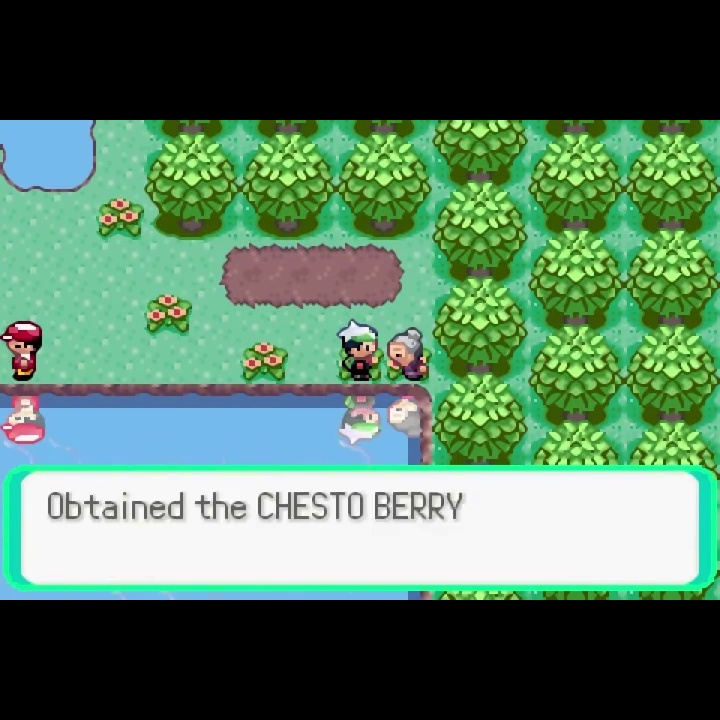npc: (334, 317, 379, 383), (1, 317, 45, 384), (384, 325, 431, 383)
wall: (336, 131, 433, 244), (143, 133, 242, 242), (243, 131, 337, 243), (527, 228, 625, 325), (434, 180, 527, 282), (432, 279, 529, 376), (624, 227, 720, 325), (529, 325, 625, 422), (625, 324, 720, 422), (625, 134, 720, 231), (530, 135, 624, 228), (433, 375, 530, 465), (433, 120, 527, 184), (625, 422, 720, 466), (530, 422, 624, 466), (527, 120, 626, 148), (627, 120, 720, 149), (241, 119, 338, 146), (143, 120, 242, 145), (338, 120, 433, 145)
